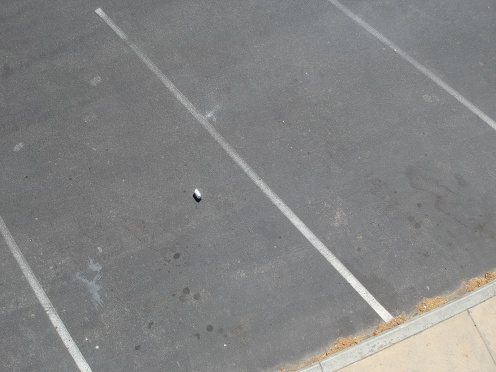can: (185, 180, 208, 205)
